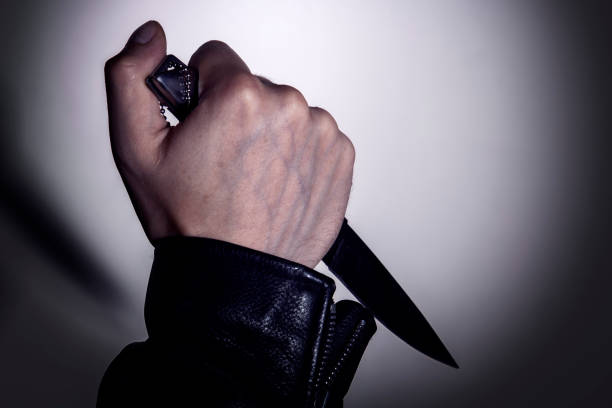knife: (146, 53, 463, 371)
